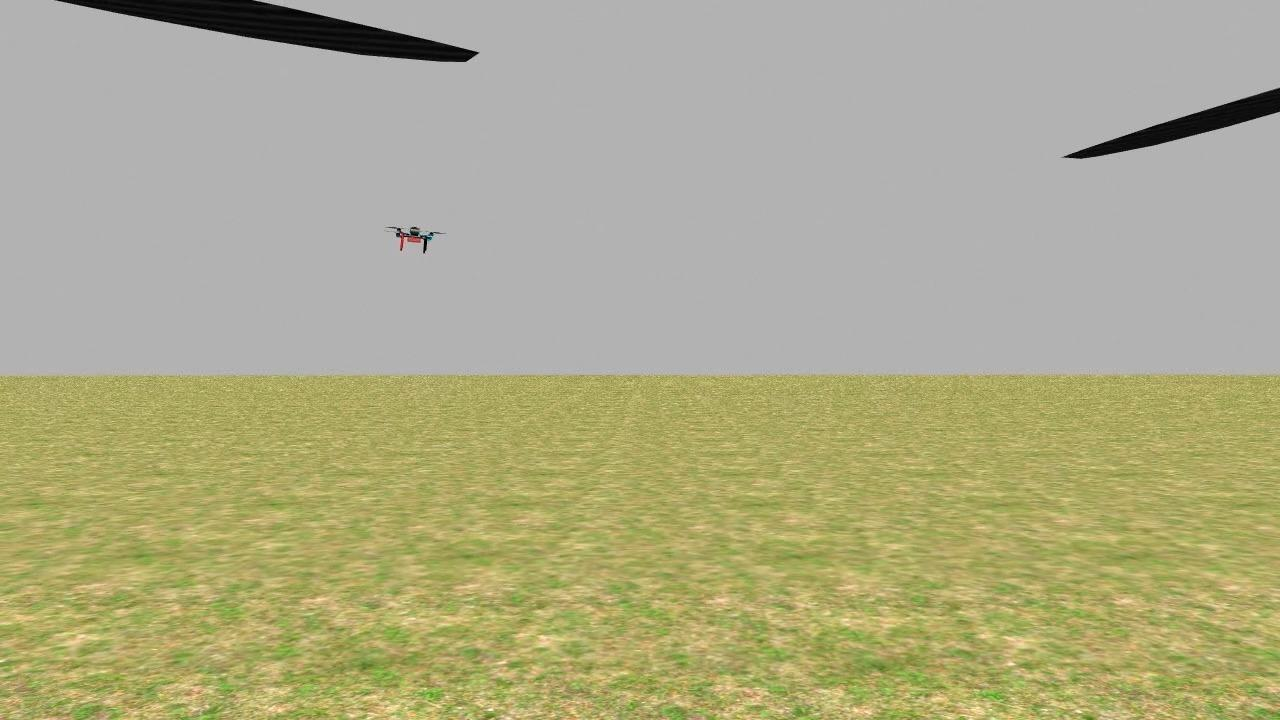UAV: (377, 210, 452, 260)
